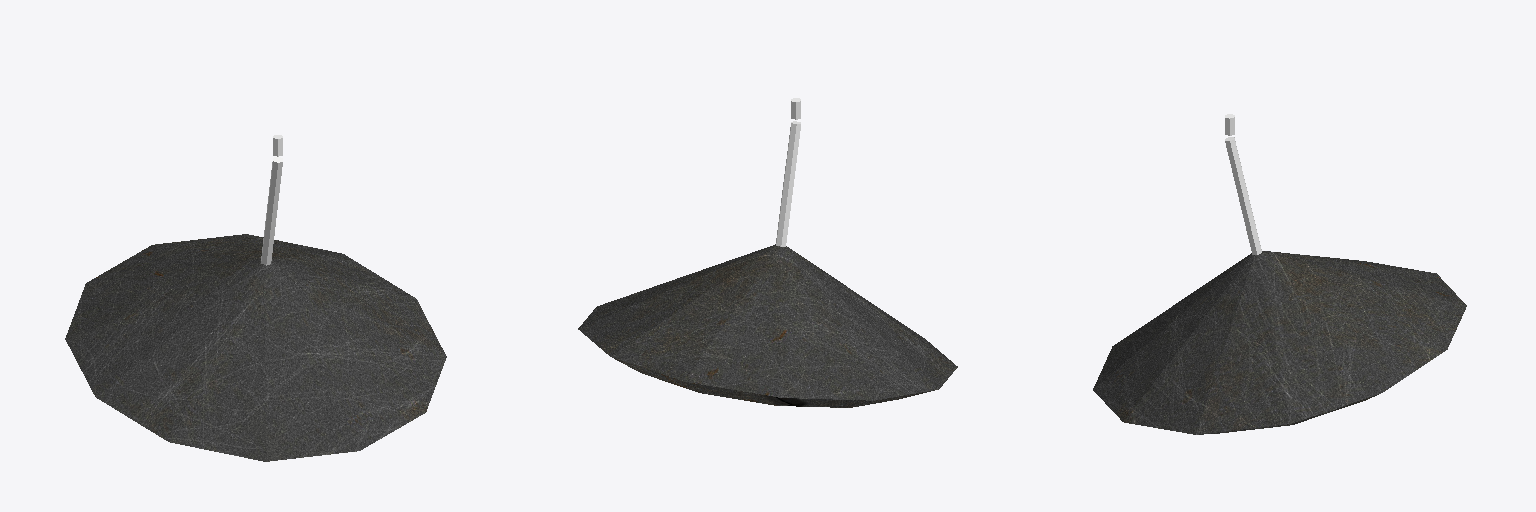
3 views of the same model, side by side, from view 1: azimuth 30°, elevation 25°; view 2: azimuth 150°, elevation 25°; view 3: azimuth 270°, elevation 25° (orthographic).
Visible parts, largest first — view 1: Spot Light_CeilingPart; view 2: Spot Light_CeilingPart; view 3: Spot Light_CeilingPart.
Part boxes in pixels (x1,y1,x2,y2): Spot Light_CeilingPart: (65, 135, 446, 461); Spot Light_CeilingPart: (578, 98, 957, 407); Spot Light_CeilingPart: (1093, 114, 1466, 434).
Bounding box in the file's own units: 2 × 1.59 × 1.95.
3 materials, 1 textured.